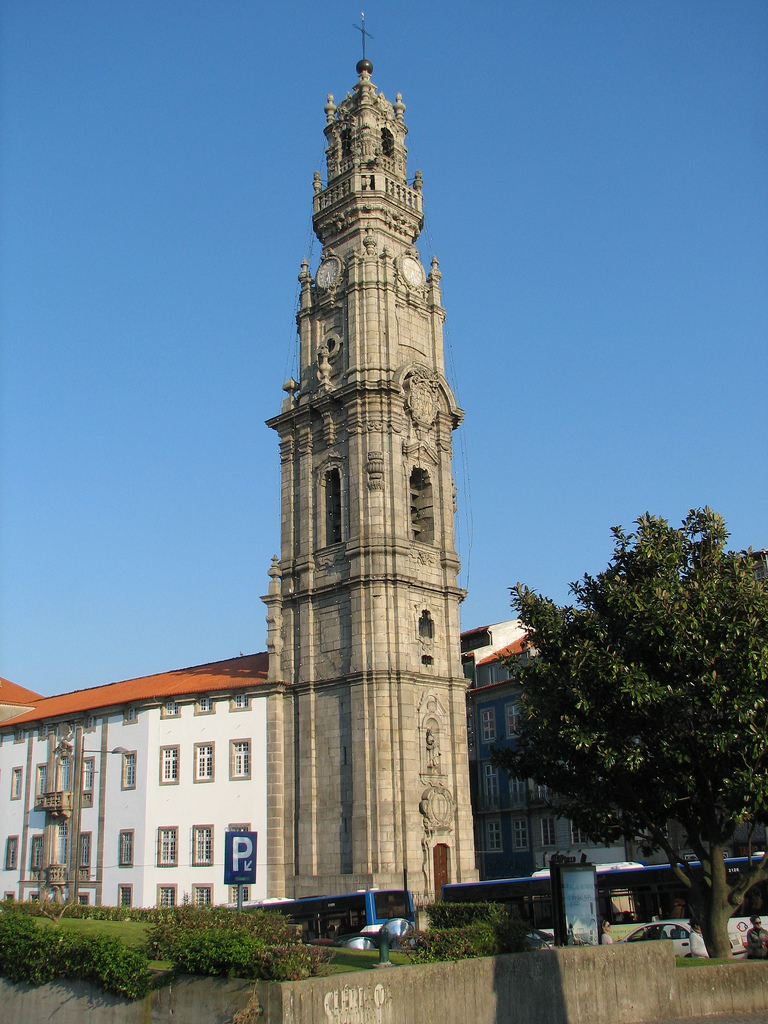clerigos: (261, 8, 490, 893)
